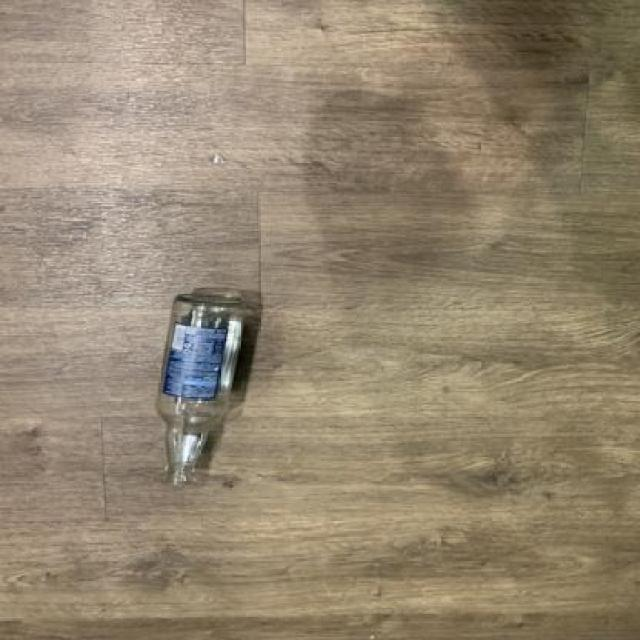trash: (155, 292, 248, 488)
